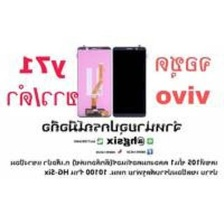phone: (74, 42, 114, 119), (111, 44, 149, 119)
